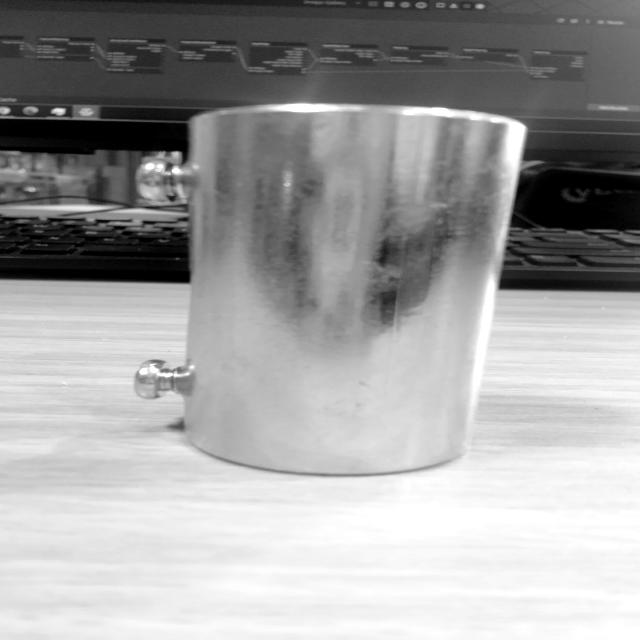Co_Nho: (127, 101, 531, 478)
